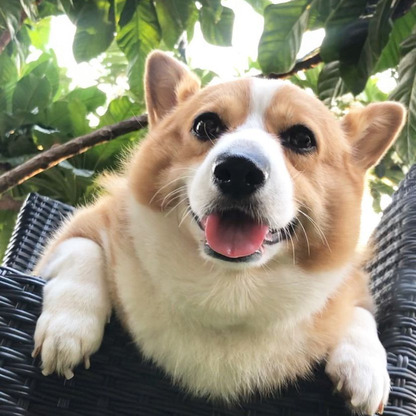Corgi: (36, 28, 401, 404)
